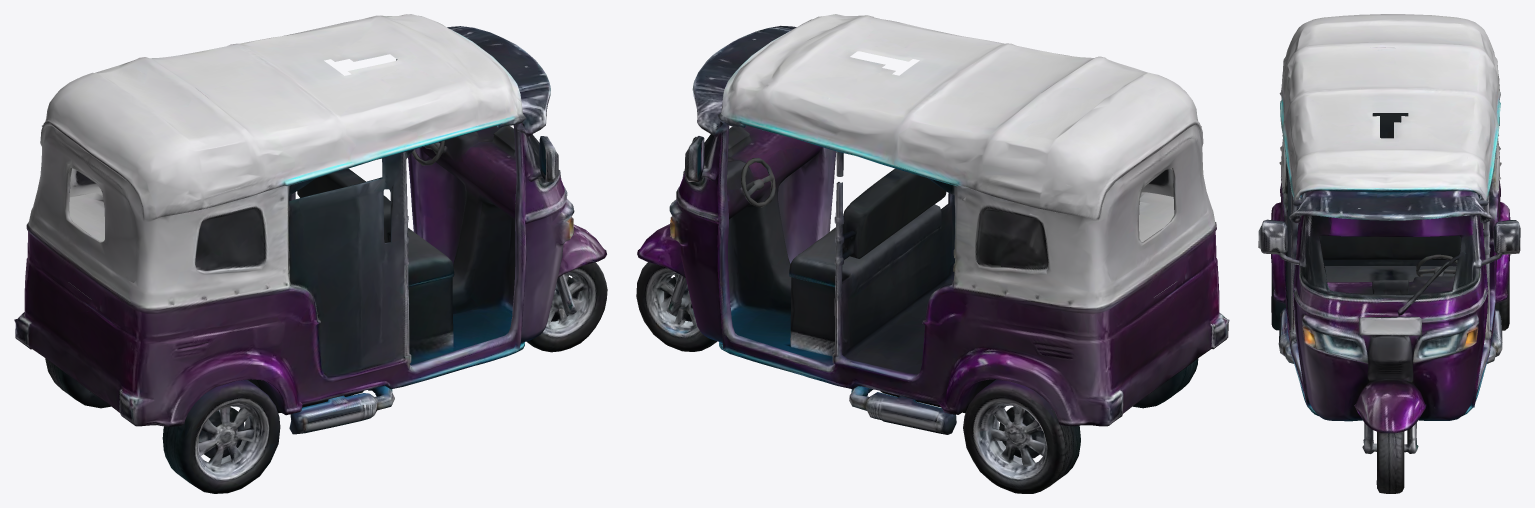
File: tukneon.glb
The picture shows the model from 3 angles, left to right: view 1: azimuth 30°, elevation 25°; view 2: azimuth 150°, elevation 25°; view 3: azimuth 270°, elevation 25°; orthographic projection. The views are drawn at different scales.
Parts seen in each view (by area): view 1: tripo_node_734a81c6-f51c-408d-b84c-cd78e36b5d59; view 2: tripo_node_734a81c6-f51c-408d-b84c-cd78e36b5d59; view 3: tripo_node_734a81c6-f51c-408d-b84c-cd78e36b5d59.
Part boxes in pixels (x1,y1,x2,y2): tripo_node_734a81c6-f51c-408d-b84c-cd78e36b5d59: [14, 14, 607, 493]; tripo_node_734a81c6-f51c-408d-b84c-cd78e36b5d59: [636, 14, 1229, 493]; tripo_node_734a81c6-f51c-408d-b84c-cd78e36b5d59: [1258, 14, 1520, 493].
Bounding box in the file's own units: 1 × 0.6285 × 0.505.
Materials: 1 (1 with a texture image).
